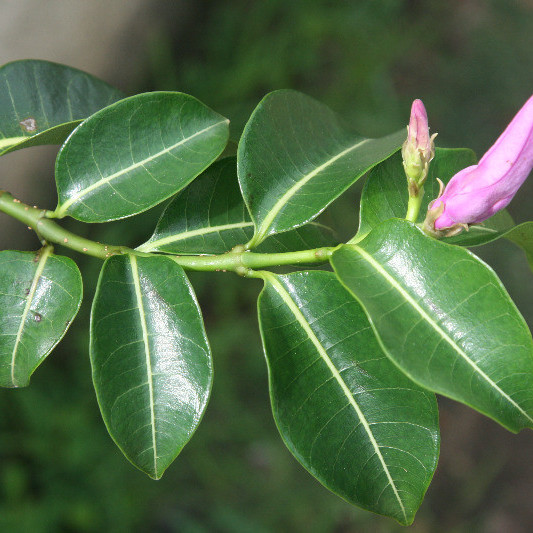obstacle: (25, 34, 513, 523)
